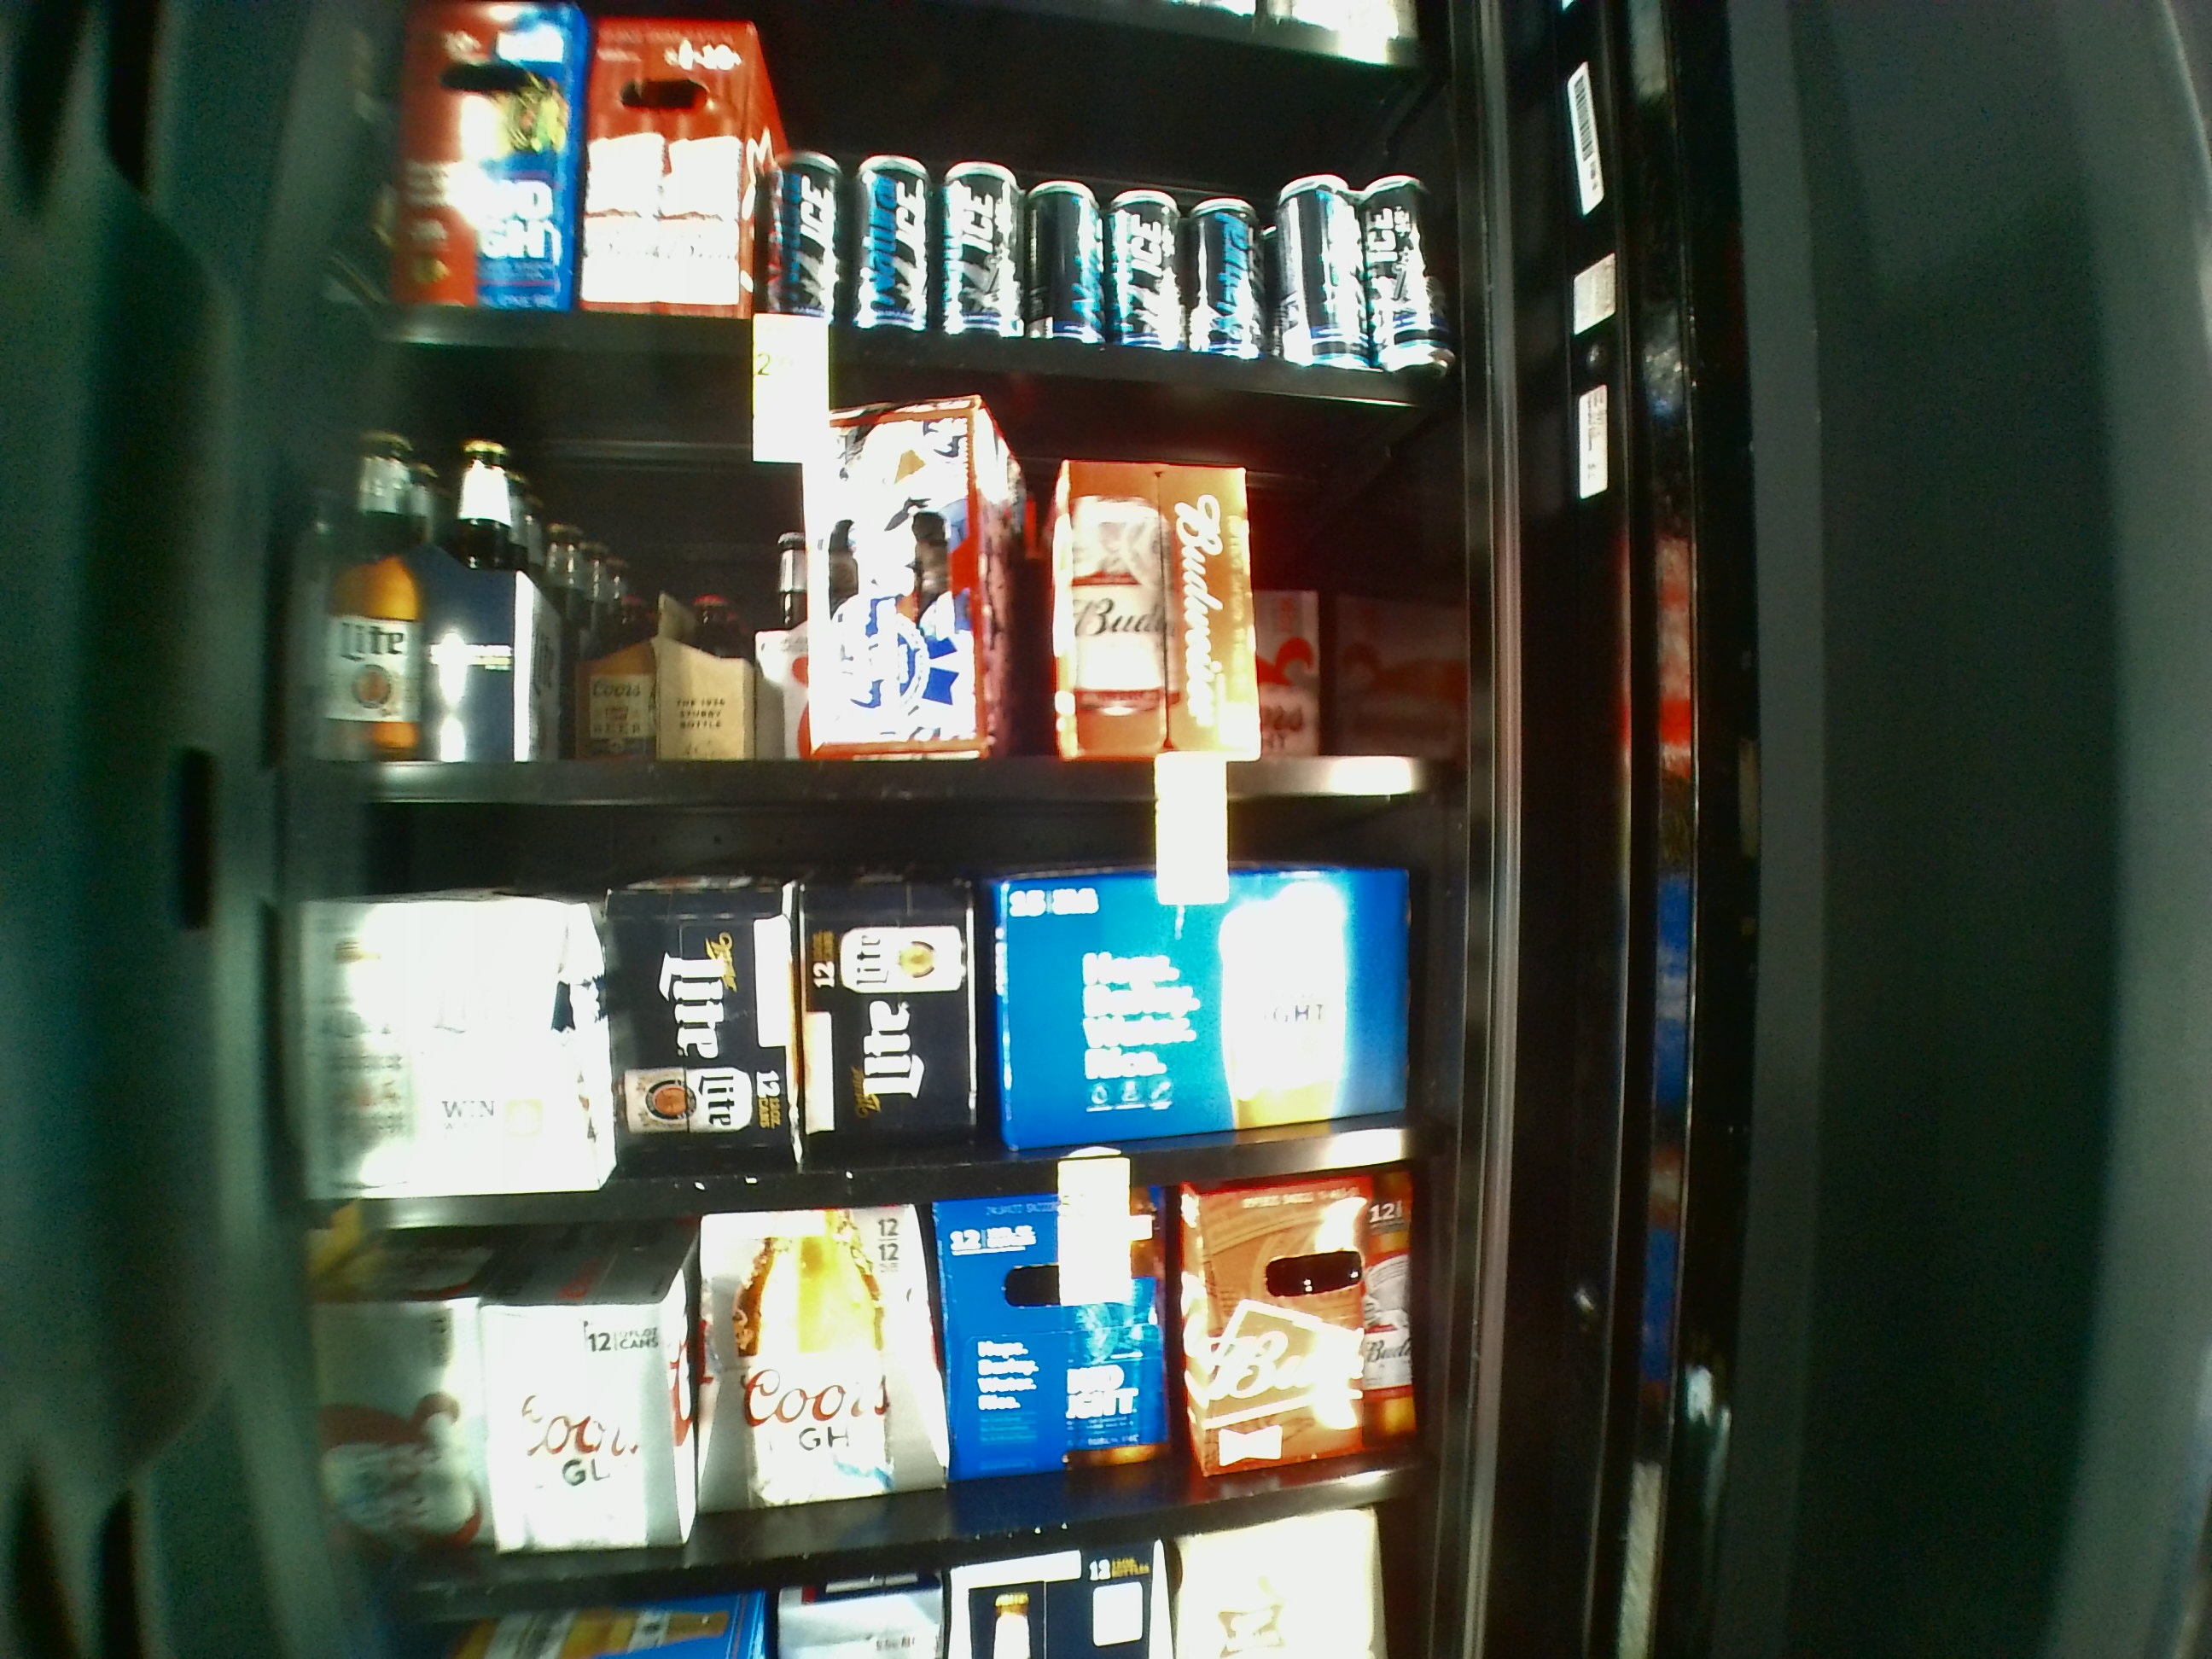shelf: (312, 369, 1449, 807), (355, 2, 1446, 411), (305, 807, 1421, 1202), (315, 1202, 1433, 1575)
